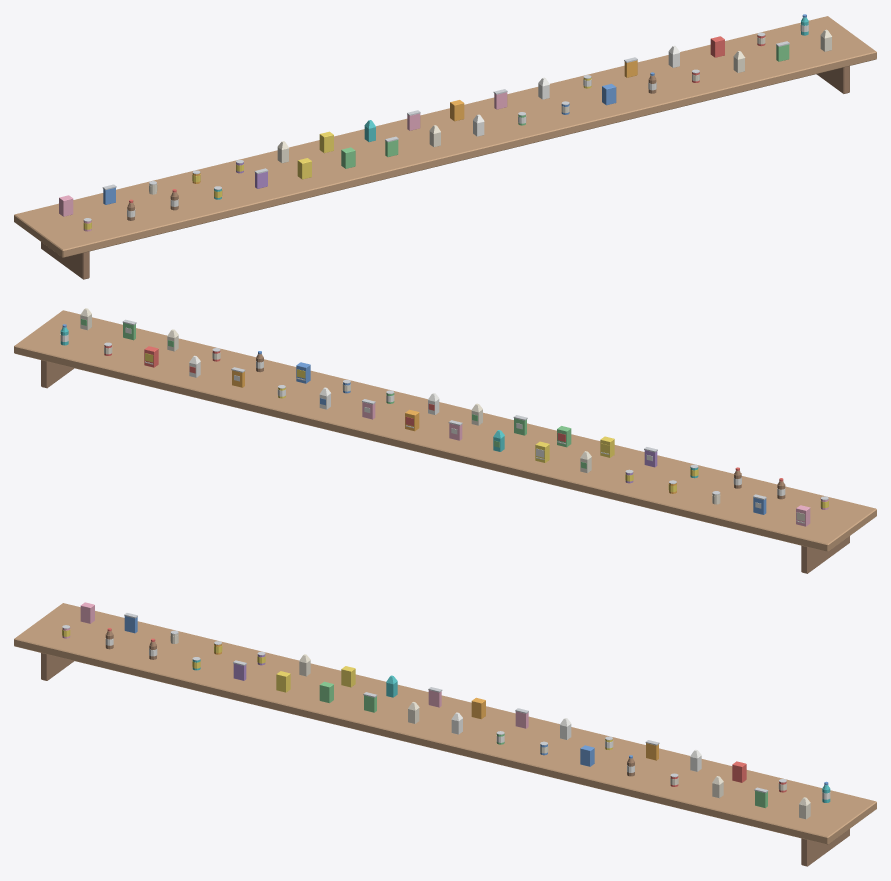
File: Mesa_Productos.fbx
3 renders of one model, top to bottom at view 1: azimuth 30°, elevation 25°; view 2: azimuth 150°, elevation 25°; view 3: azimuth 330°, elevation 25°, orthographic.
Parts seen in each view (by area): view 1: Mesa_Productos | Mesa productos, Mesa_Productos | Pata mesa, Mesa_Productos | Pata mesa.001; view 2: Mesa_Productos | Mesa productos, Mesa_Productos | Pata mesa, Mesa_Productos | Pata mesa.001; view 3: Mesa_Productos | Mesa productos, Mesa_Productos | Pata mesa.001, Mesa_Productos | Pata mesa.
Boxes of the visible parts, <box> form: Mesa_Productos | Mesa productos: <box>14,16,876,257</box>; Mesa_Productos | Pata mesa: <box>41,242,89,279</box>; Mesa_Productos | Pata mesa.001: <box>816,66,849,93</box>; Mesa_Productos | Mesa productos: <box>14,310,876,551</box>; Mesa_Productos | Pata mesa: <box>801,536,849,573</box>; Mesa_Productos | Pata mesa.001: <box>41,360,73,388</box>; Mesa_Productos | Mesa productos: <box>14,603,876,844</box>; Mesa_Productos | Pata mesa.001: <box>801,829,849,866</box>; Mesa_Productos | Pata mesa: <box>41,653,74,680</box>.
Bounding box in the file's own units: 10.5 × 0.717 × 1.1.
